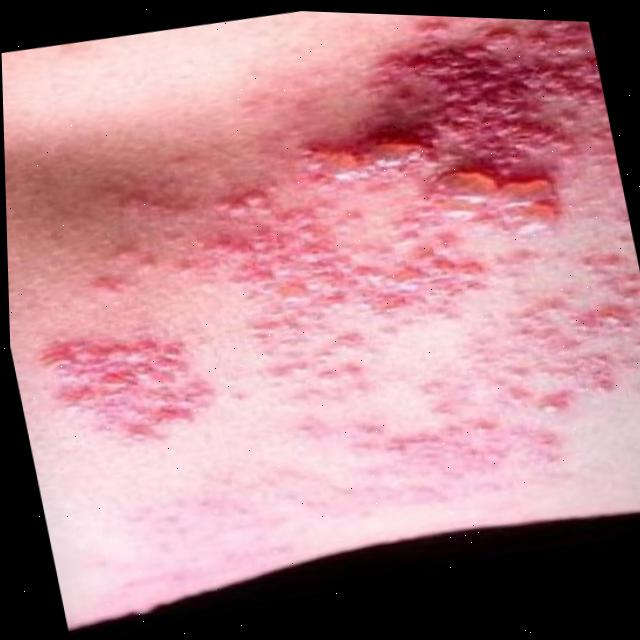Shingles: (0, 0, 640, 612)
